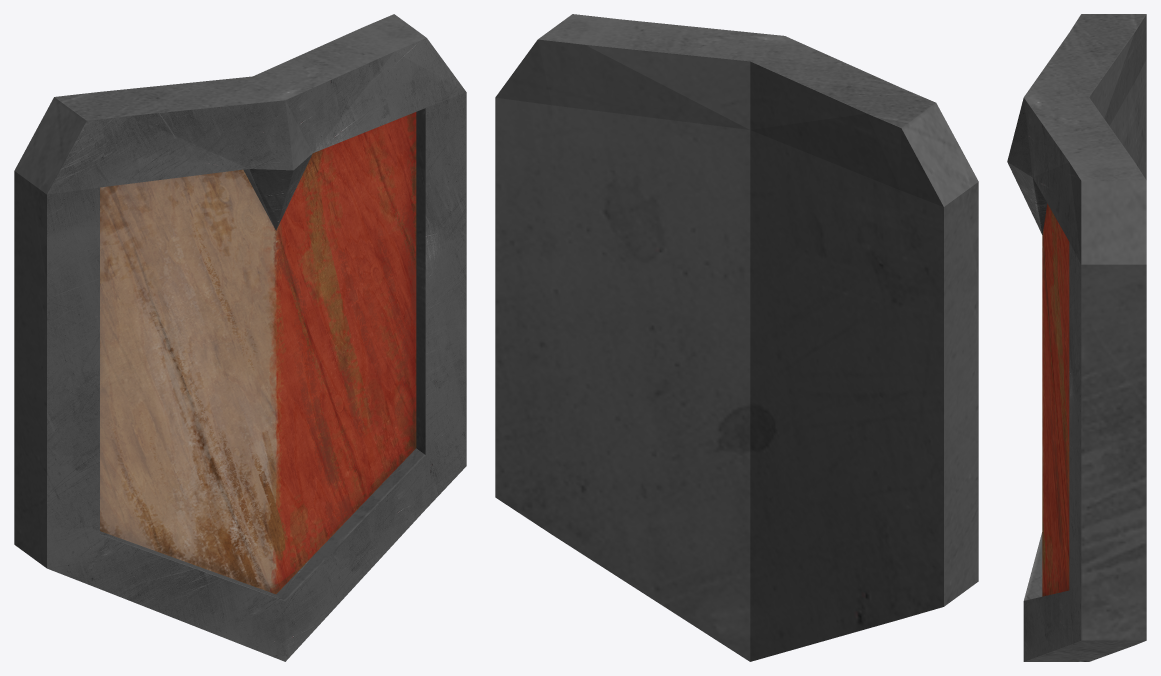
File: kite Shield Red.fbx
3 views of the same model, side by side, from view 1: azimuth 30°, elevation 25°; view 2: azimuth 150°, elevation 25°; view 3: azimuth 270°, elevation 25° (orthographic). The views are drawn at different scales.
Visible parts, largest first — view 1: kite_Shield_Red; view 2: kite_Shield_Red; view 3: kite_Shield_Red.
Part boxes in pixels (x1,y1,x2,y2): kite_Shield_Red: (14, 14, 466, 661); kite_Shield_Red: (495, 14, 978, 661); kite_Shield_Red: (1007, 14, 1146, 661).
Bounding box in the file's own units: 110 × 141 × 31.51.
